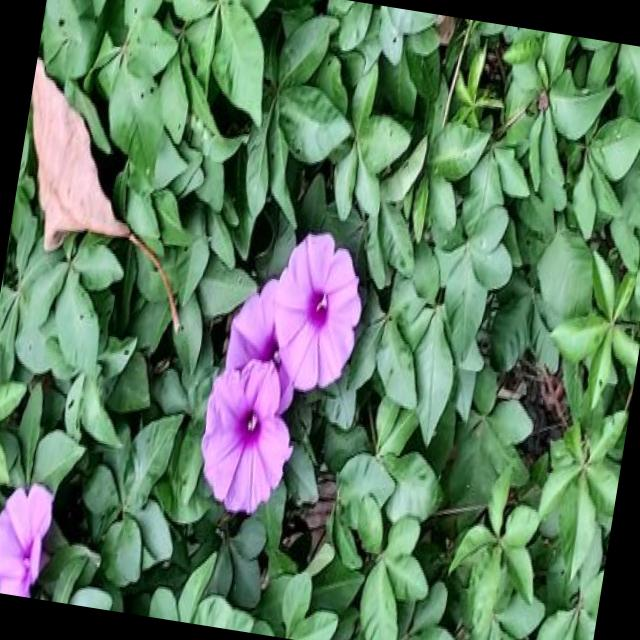ipomoea: (186, 212, 378, 530), (259, 221, 376, 402), (188, 348, 308, 523)
